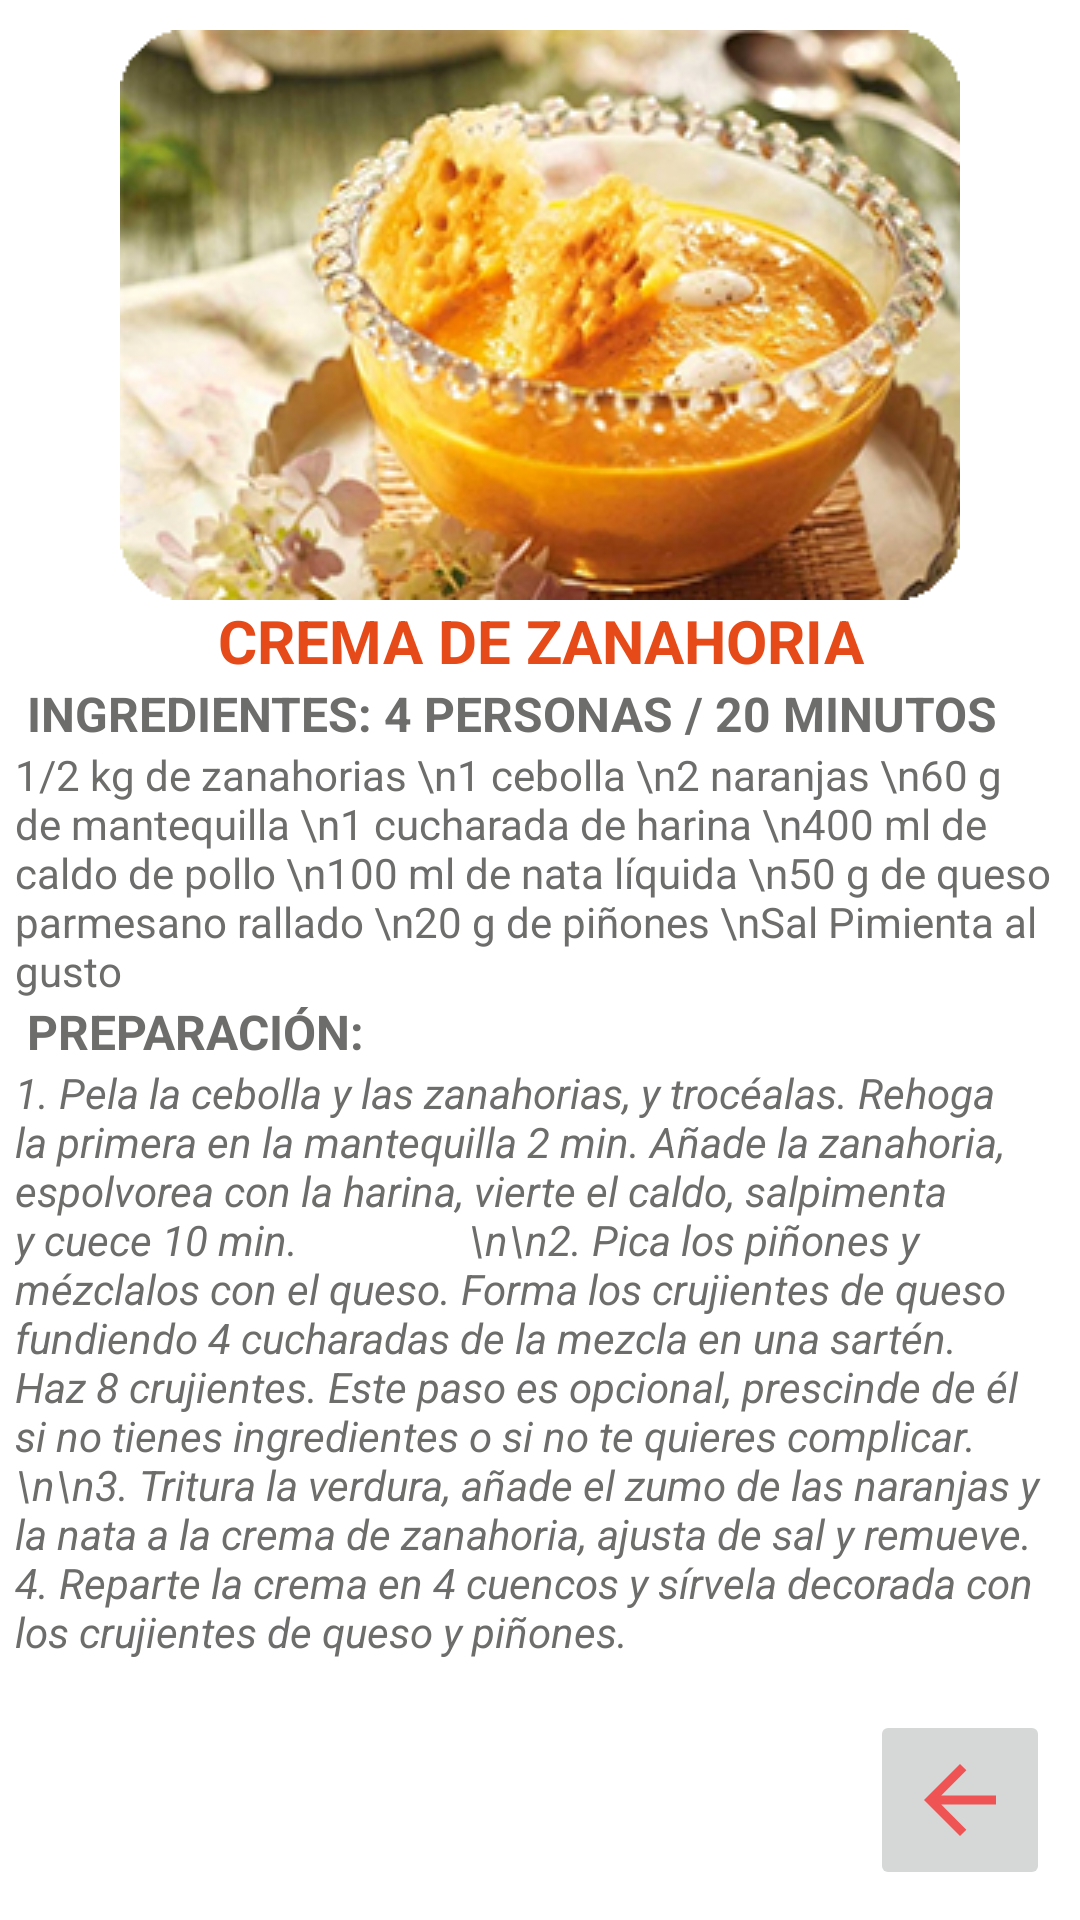

Locate icon controls on the screen. Image size 1080x1920, boxes as (x1, y1, x2, y2).
arrow back: (882, 1728, 1038, 1872)
